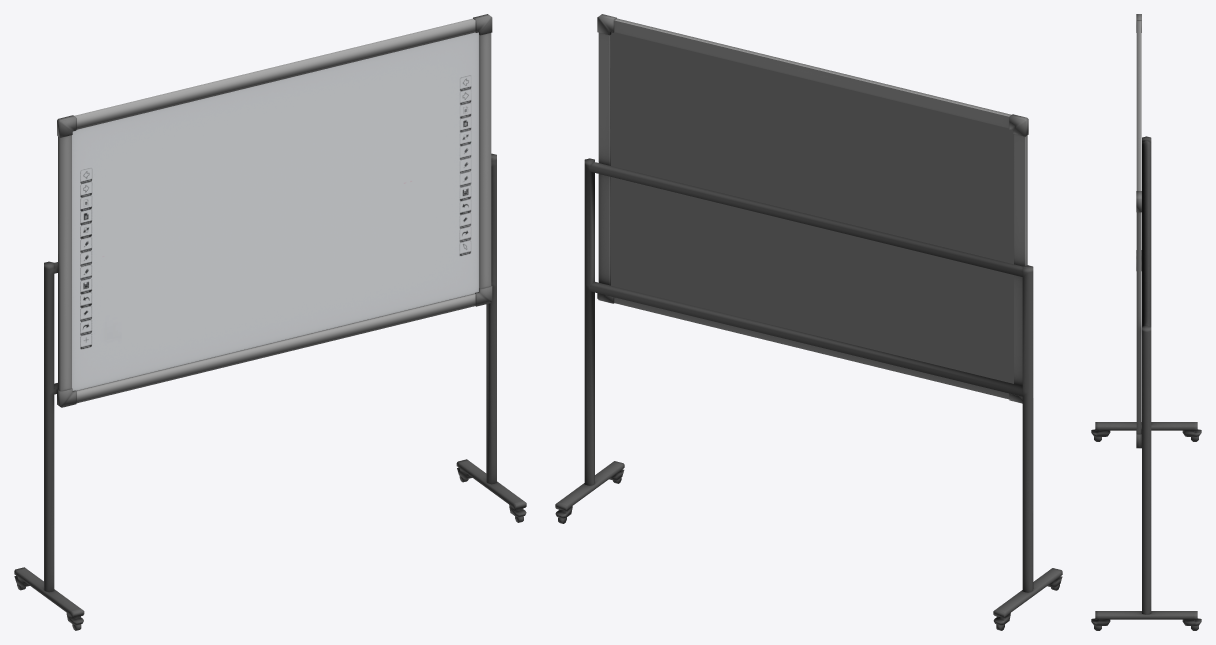
The model's file is whiteboard.fbx.
3 views of the same model, side by side, from view 1: azimuth 30°, elevation 25°; view 2: azimuth 150°, elevation 25°; view 3: azimuth 270°, elevation 25° (orthographic). The views are drawn at different scales.
Parts seen in each view (by area): view 1: BezierCurve.004; view 2: BezierCurve.004; view 3: BezierCurve.004.
Boxes of the visible parts, left/top/right/bottom form: BezierCurve.004: left=14, top=14, right=526, bottom=630; BezierCurve.004: left=555, top=14, right=1062, bottom=630; BezierCurve.004: left=1091, top=14, right=1201, bottom=630.
Bounding box in the file's own units: 6.52 × 6.74 × 1.57.
